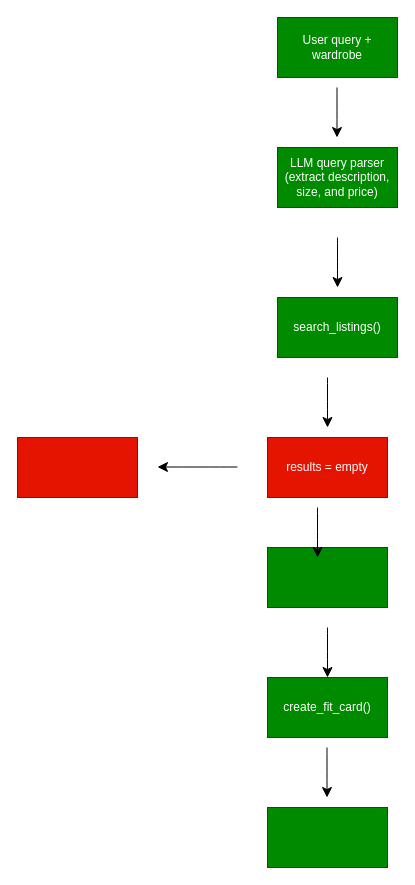
Image size: 415x885. Some labels were removed from this diagram. The box of each missing label's shape, as (x1, y1, x2, y2) in pixels:
error (return session): (16, 436, 138, 498)
suggest_outfit(): (266, 546, 388, 608)
UI Output: (266, 806, 388, 868)
